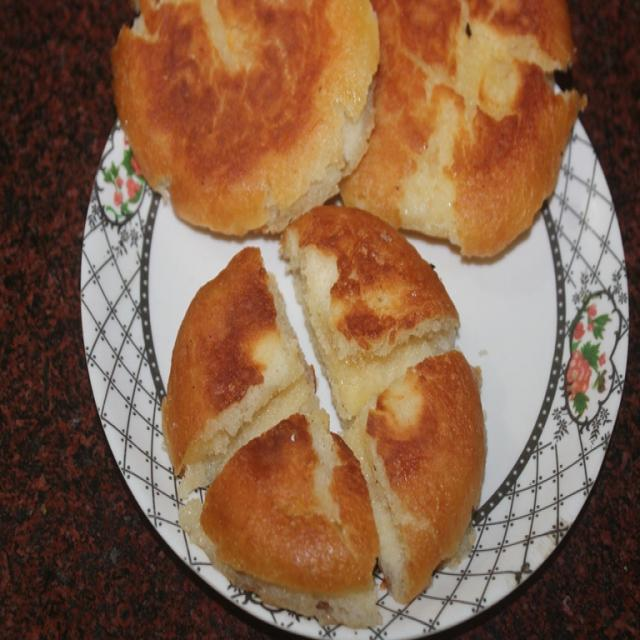Bun: (154, 202, 490, 604), (324, 0, 580, 264), (107, 0, 386, 236)
